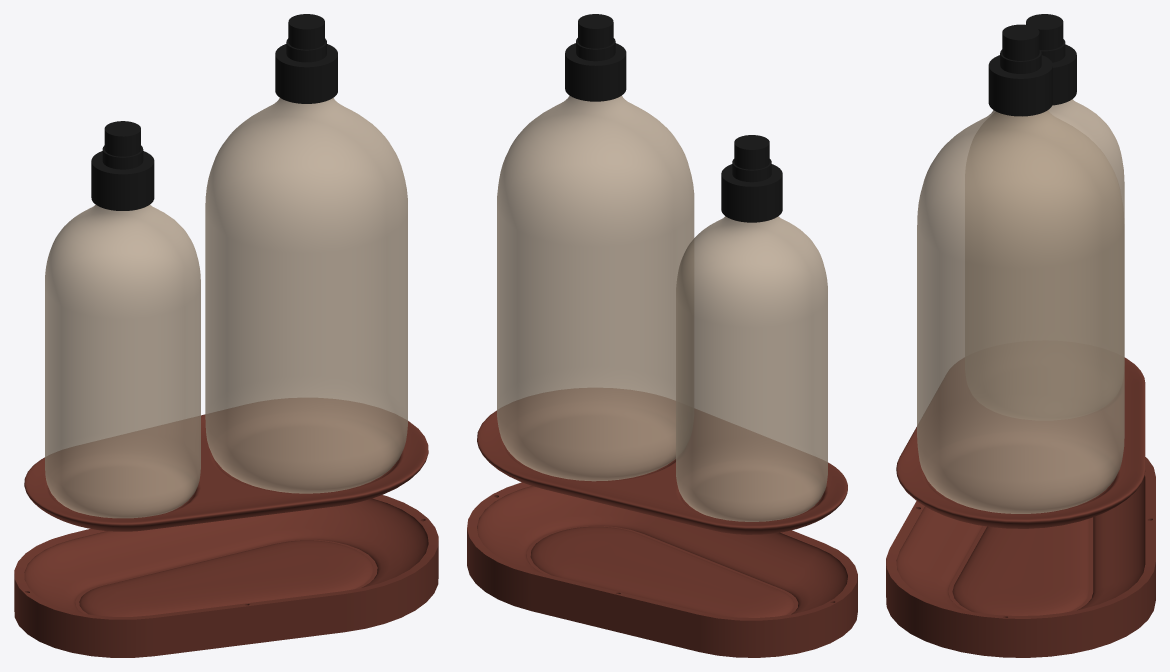
The model's file is tray.glb.
The picture shows the model from 3 angles, left to right: view 1: azimuth 30°, elevation 25°; view 2: azimuth 150°, elevation 25°; view 3: azimuth 270°, elevation 25°; orthographic projection. The views are drawn at different scales.
Visible parts, largest first — view 1: tray; view 2: tray; view 3: tray.
Boxes of the visible parts, box(x1,y1,x2,y2) form: tray: box(14, 14, 438, 657); tray: box(467, 14, 857, 657); tray: box(886, 14, 1155, 657).
Size of the model in its own units: 2.16 by 3.03 by 1.3.
